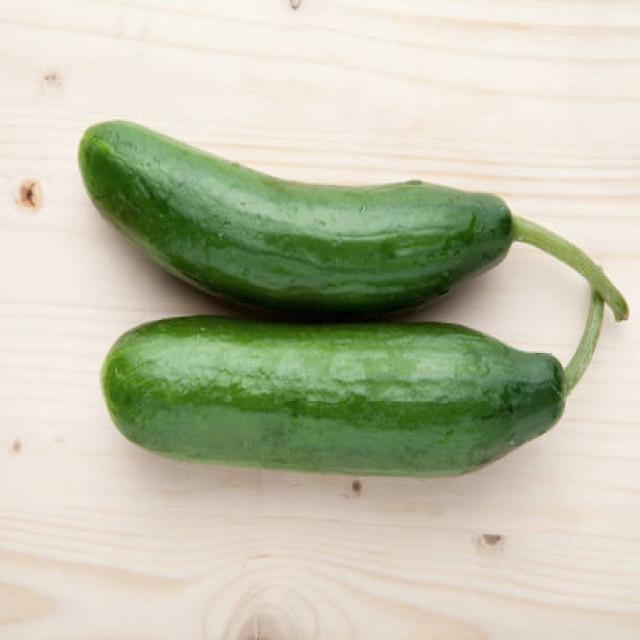cucumber: (79, 118, 512, 316), (101, 316, 566, 482)
